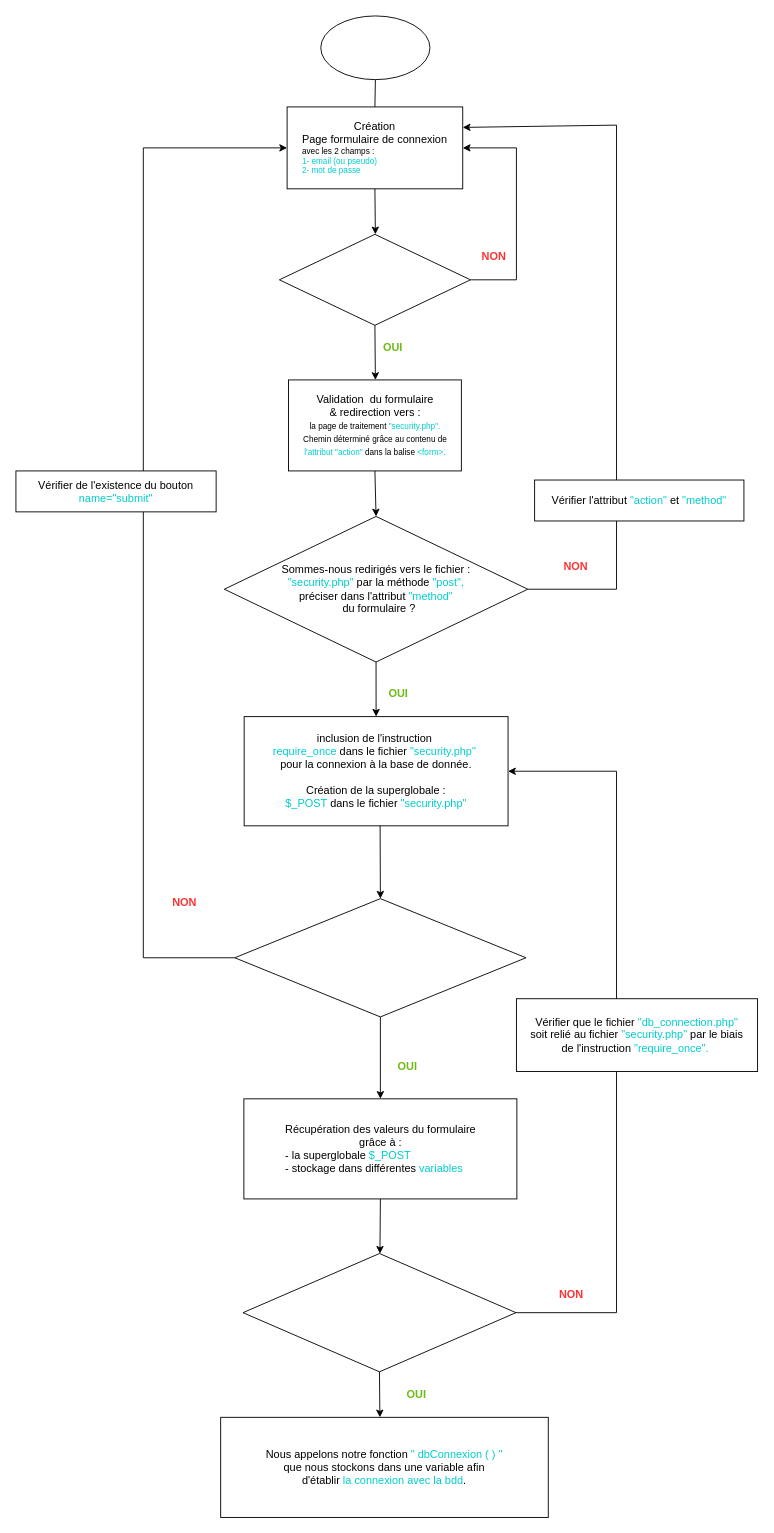
The diagram is 774 pixels wide and 1533 high, and some of its shapes have lost their labels. Each missing label, with the box of its shape:
Début Page connexion: (320, 15, 430, 80)
Est-ce que $_POST[ ' submit ' ] existe?: (234, 898, 526, 1017)
La connecxion est-elle établie avec la base de donnée (bdd)? "db_connection.php": (242, 1253, 516, 1372)
Les attributs importants sont utilisés : action, method, type, name, value: (278, 233, 470, 325)
